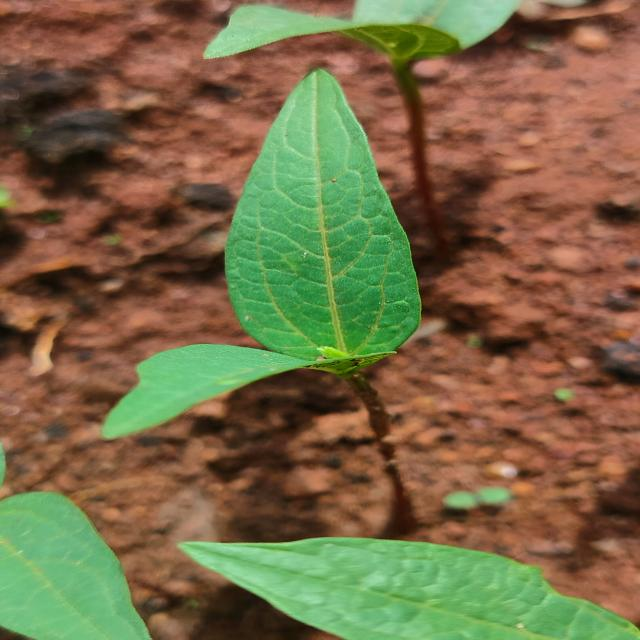Black gram_healthy: (222, 63, 422, 366)
